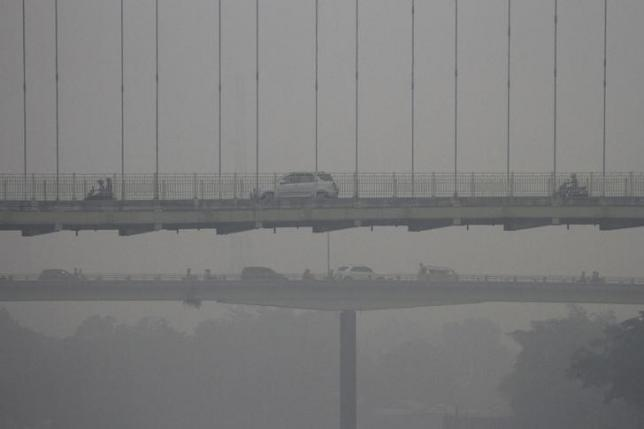airplane: (257, 172, 340, 204), (354, 258, 442, 285), (387, 259, 458, 283), (417, 261, 458, 281), (334, 264, 375, 279), (417, 260, 453, 273), (330, 264, 353, 280), (417, 261, 437, 276), (415, 261, 428, 278)
bench: (557, 171, 641, 203), (274, 174, 339, 202), (591, 172, 638, 198), (511, 173, 550, 197), (553, 177, 587, 201)
bicycle: (551, 176, 590, 203)
bird: (94, 177, 107, 195)
boat: (254, 172, 342, 203), (331, 264, 374, 280), (417, 262, 457, 279)
bus: (266, 172, 340, 201), (333, 264, 374, 280)
car: (250, 176, 328, 206), (236, 172, 304, 201), (273, 173, 339, 201), (266, 177, 319, 199), (249, 178, 292, 205), (293, 169, 334, 197), (270, 188, 325, 208), (257, 185, 312, 205), (280, 171, 332, 188), (416, 261, 458, 281), (555, 177, 588, 201), (311, 171, 337, 199), (333, 264, 375, 280), (280, 172, 317, 183), (338, 267, 363, 283), (343, 264, 375, 276), (333, 264, 355, 280), (253, 188, 274, 200)
chair: (559, 172, 585, 200), (556, 173, 575, 202), (572, 186, 588, 201)
person: (550, 174, 574, 205), (315, 171, 339, 198), (86, 177, 111, 199), (567, 172, 587, 198), (560, 175, 575, 202), (557, 181, 571, 204), (324, 171, 338, 192), (566, 172, 578, 196), (85, 181, 101, 199), (573, 181, 588, 198), (94, 177, 107, 196), (102, 176, 114, 196), (301, 267, 314, 280)
truck: (266, 172, 340, 201), (236, 172, 304, 201), (251, 180, 317, 204), (293, 170, 340, 196), (276, 172, 324, 194), (416, 262, 456, 280), (334, 265, 375, 280), (333, 264, 355, 280)
